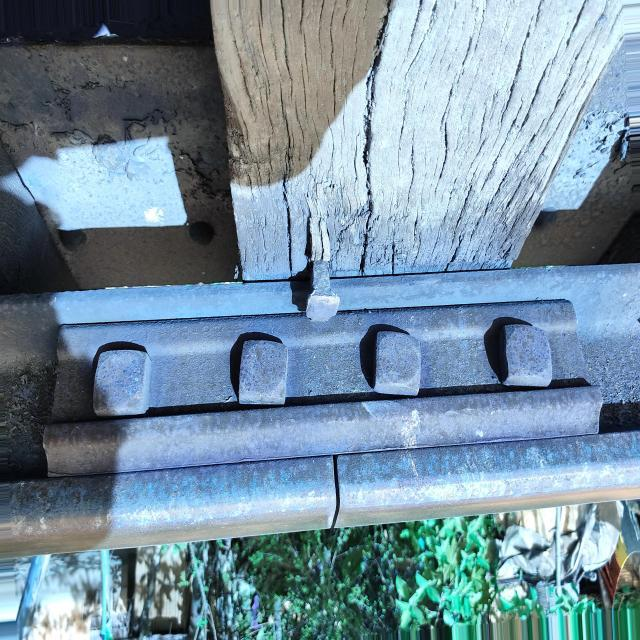Good Joint: (51, 301, 605, 473)
